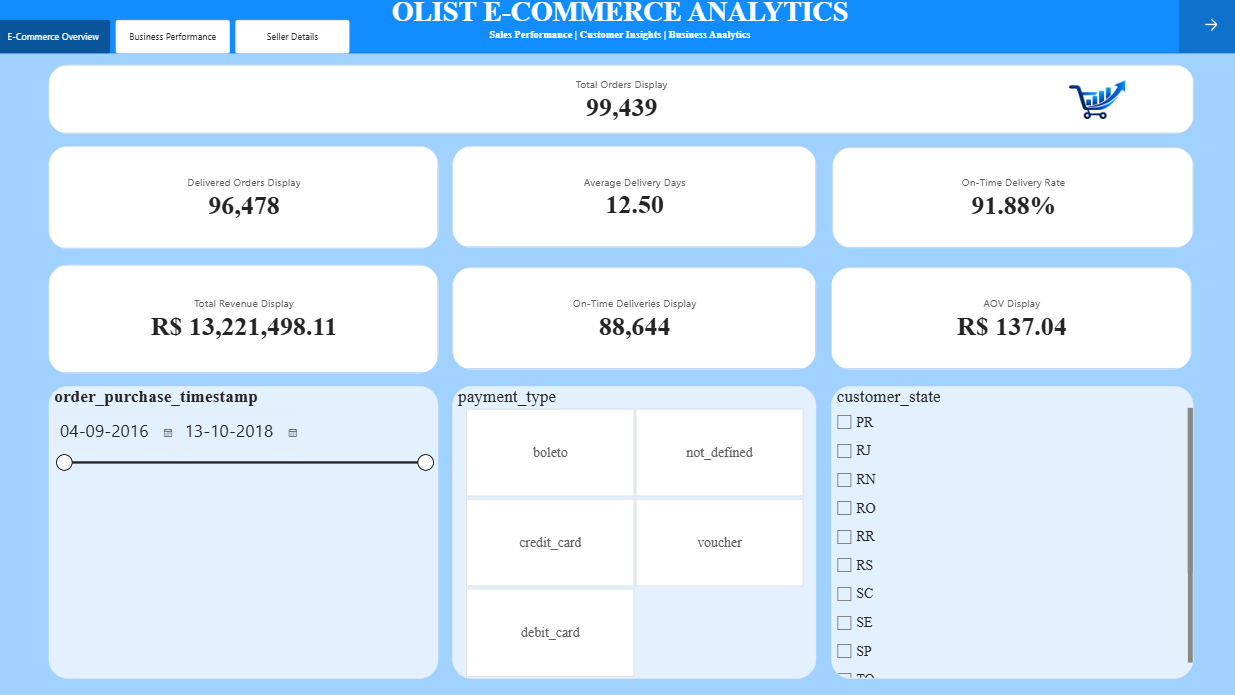

Layout of this report page (visuals, bound fields, positions):
{"tool":"powerbi","page":{"name":"E-Commerce Overview","canvas":[1920,1080],"ordinal":0},"visuals":[{"type":"cardVisual","fields":{"Data":["Categories.Total Orders Display"]},"box":[80,106,1762,106],"z":0},{"type":"cardVisual","fields":{"Data":["Categories.Delivered Orders Display"]},"box":[80,230,600,158],"z":1000},{"type":"cardVisual","fields":{"Data":["Categories.Total Revenue Display"]},"box":[80,412.5,600,167.5],"z":2000},{"type":"cardVisual","fields":{"Data":["Categories.Average Delivery Days"]},"box":[701.7,231.7,560,156.7],"z":3000},{"type":"cardVisual","fields":{"Data":["Categories.On-Time Deliveries Display"]},"box":[702.5,417.5,560,157.5],"z":4000},{"type":"slicer","fields":{"Values":["Orders.order_purchase_timestamp"]},"box":[80,600,600,450],"z":5000},{"type":"slicer","fields":{"Values":["Customers.customer_state"]},"box":[1285,600,557.5,450],"z":6000},{"type":"shape","box":[0,0,1920,88.3],"z":7000},{"type":"slicer","fields":{"Values":["Payments.payment_type"]},"box":[702.5,600,560,450],"z":8000},{"type":"textbox","box":[0,0,1920,106],"z":9000},{"type":"cardVisual","fields":{"Data":["Categories.AOV Display"]},"box":[1285,417.5,555,157.5],"z":10000},{"type":"cardVisual","fields":{"Data":["Categories.On-Time Delivery Rate"]},"box":[1286.2,232.3,556.2,155.4],"z":10001},{"type":"pageNavigator","box":[0,36,546,52],"z":10002},{"type":"actionButton","box":[1820,0,100,88],"z":10003},{"type":"image","box":[1620,120,146,80],"z":10004}]}

Visuals, with their boxes in screenshot pixels (x1, y1, x2, y2), scaled from the page's 1920x1080 canvas onto the 1235x695 screenshot:
cardVisual - Categories.Total Orders Display: <region>51, 68, 1185, 136</region>
cardVisual - Categories.Delivered Orders Display: <region>51, 148, 437, 250</region>
cardVisual - Categories.Total Revenue Display: <region>51, 265, 437, 373</region>
cardVisual - Categories.Average Delivery Days: <region>451, 149, 812, 250</region>
cardVisual - Categories.On-Time Deliveries Display: <region>452, 269, 812, 370</region>
slicer - Orders.order_purchase_timestamp: <region>51, 386, 437, 676</region>
slicer - Customers.customer_state: <region>827, 386, 1185, 676</region>
shape: <region>0, 0, 1234, 57</region>
slicer - Payments.payment_type: <region>452, 386, 812, 676</region>
textbox: <region>0, 0, 1234, 68</region>
cardVisual - Categories.AOV Display: <region>827, 269, 1184, 370</region>
cardVisual - Categories.On-Time Delivery Rate: <region>827, 149, 1185, 249</region>
pageNavigator: <region>0, 23, 351, 57</region>
actionButton: <region>1171, 0, 1234, 57</region>
image: <region>1042, 77, 1136, 129</region>
